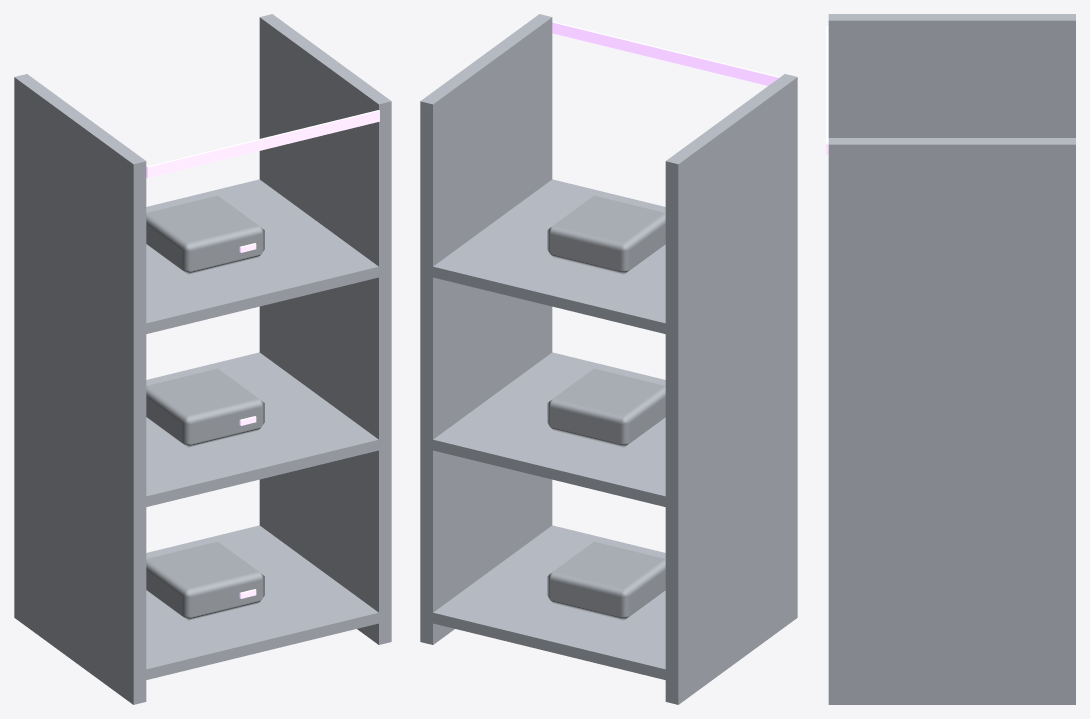
File: station_special_ausstattung_1_2.glb
3 renders of one model, left to right at view 1: azimuth 30°, elevation 25°; view 2: azimuth 150°, elevation 25°; view 3: azimuth 270°, elevation 25°, orthographic. The views are drawn at different scales.
Parts seen in each view (by area): view 1: station_special_ausstattung_1_2; view 2: station_special_ausstattung_1_2; view 3: station_special_ausstattung_1_2.
Part boxes in pixels (x1,y1,x2,y2): station_special_ausstattung_1_2: [14, 14, 391, 704]; station_special_ausstattung_1_2: [420, 14, 797, 704]; station_special_ausstattung_1_2: [826, 14, 1075, 704].
Size of the model in its own units: 0.5 by 1 by 0.404.
